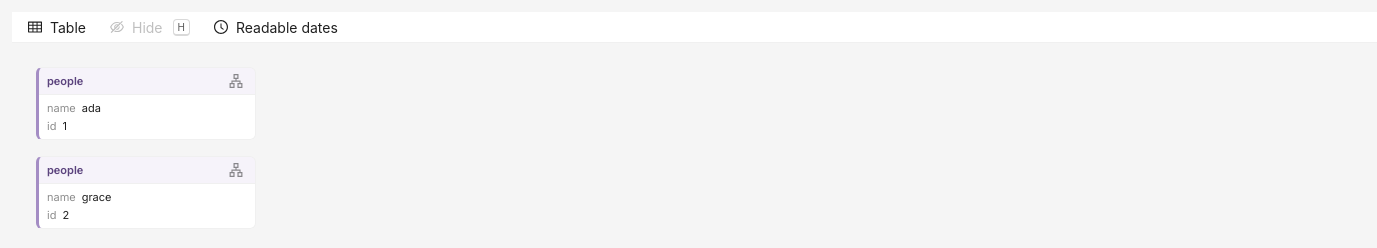
Test: cards picked with ⌘-click are hidden by H, edges and all, until shown again
This screenshot has width=1377, height=248.
Check: the button "Hide H" is disabled, box [102,15,198,39]
Click the element named "people 1": (146, 104) [36,67,256,140]
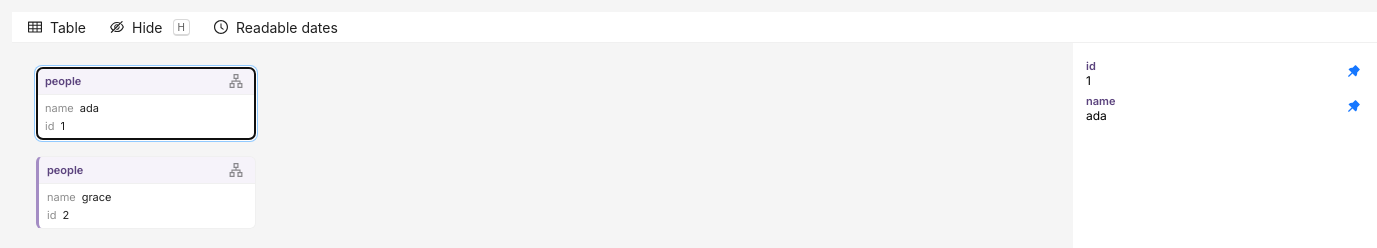
Type keys "{Meta>}"
Click the element named "people 2": (146, 192) [36,156,256,229]
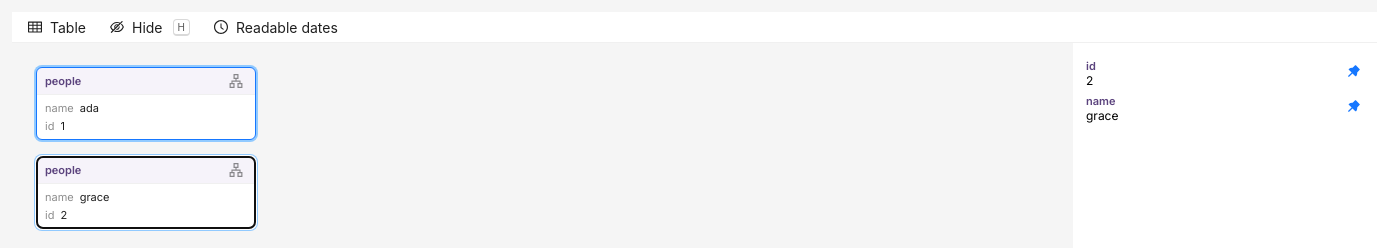
Type keys "{/Meta}"
Check: the element named "people 1" is marked as current, box [36,67,256,140]
Check: the element named "people 2" is marked as current, box [36,156,256,229]
Type keys "h"
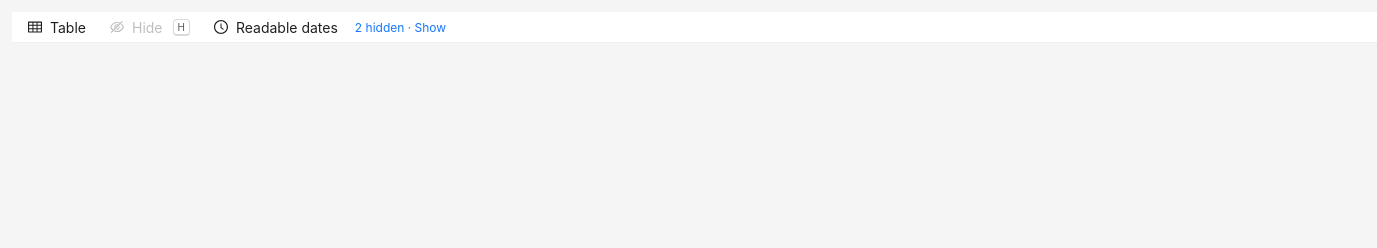
Click the button "2 hidden · Show": (401, 27) [354,15,447,39]
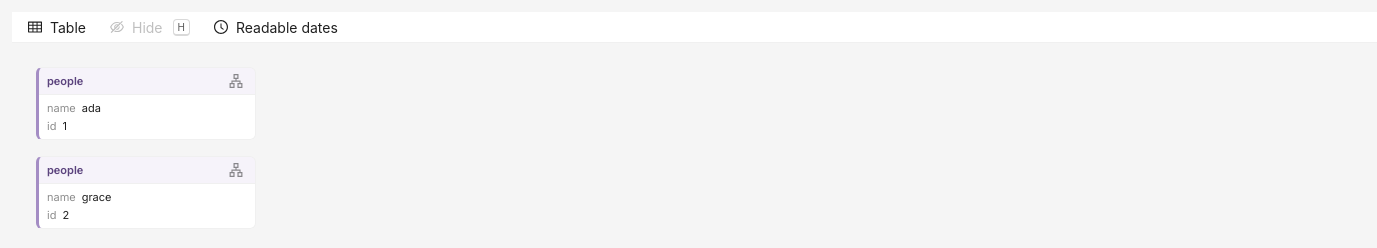
Check: the element named "people 1" is shown, box [36,67,256,140]
Check: the element named "people 2" is shown, box [36,156,256,229]
